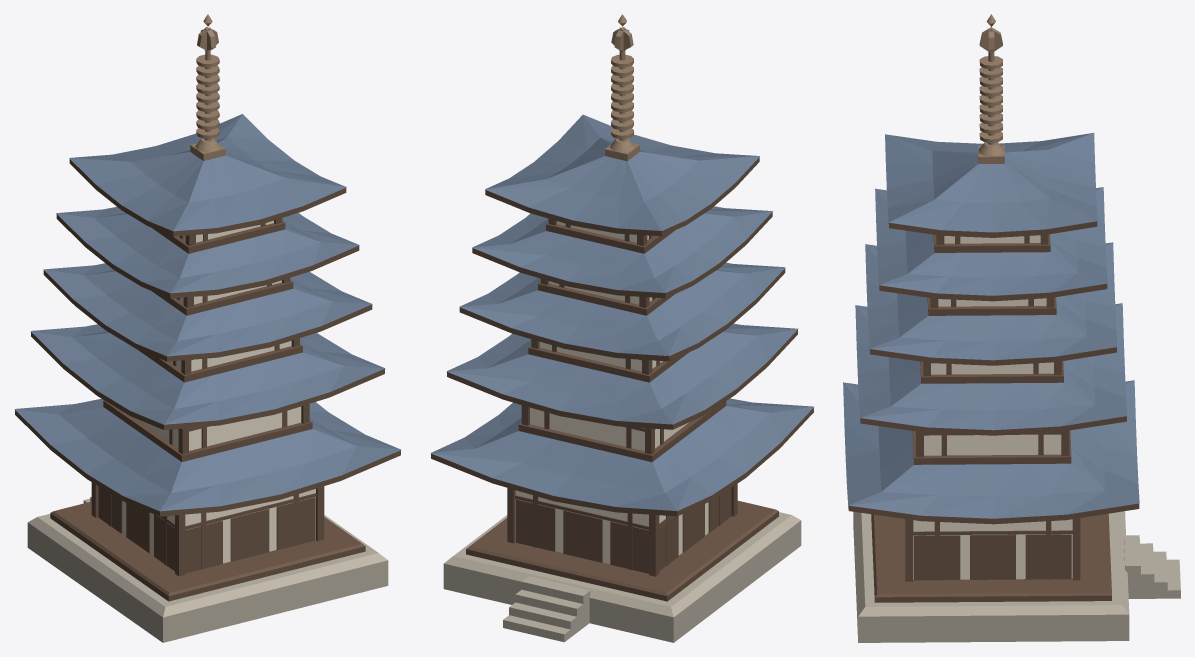
Rendered from detail.glb.
3 renders of one model, left to right at view 1: azimuth 30°, elevation 25°; view 2: azimuth 150°, elevation 25°; view 3: azimuth 270°, elevation 25°, orthographic. The views are drawn at different scales.
Parts seen in each view (by area): view 1: goju-no-to-pagoda-japan-epcot-walt-disney-world; view 2: goju-no-to-pagoda-japan-epcot-walt-disney-world; view 3: goju-no-to-pagoda-japan-epcot-walt-disney-world.
Boxes of the visible parts, x1,y1,x2,y2 form: goju-no-to-pagoda-japan-epcot-walt-disney-world: (14, 14, 401, 642); goju-no-to-pagoda-japan-epcot-walt-disney-world: (430, 14, 814, 642); goju-no-to-pagoda-japan-epcot-walt-disney-world: (843, 14, 1180, 642).
Size of the model in its own units: 12.25 by 26 by 13.95.
